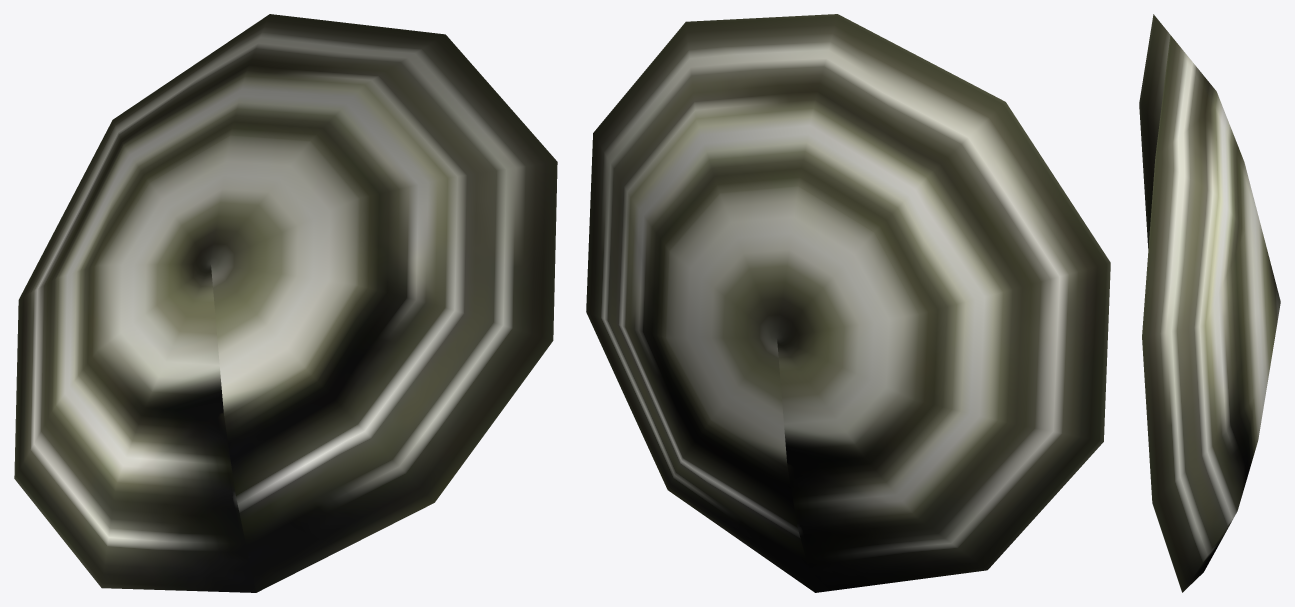
The model's file is pir_m_efx_chr_hitRings.fbx.
The picture shows the model from 3 angles, left to right: view 1: azimuth 30°, elevation 25°; view 2: azimuth 150°, elevation 25°; view 3: azimuth 270°, elevation 25°; orthographic projection. The views are drawn at different scales.
Visible parts, largest first — view 1: pTorus1; view 2: pTorus1; view 3: pTorus1.
Part boxes in pixels (bbox=[...]): pTorus1: bbox=[14, 14, 557, 592]; pTorus1: bbox=[586, 14, 1110, 592]; pTorus1: bbox=[1139, 14, 1280, 592].
Bounding box in the file's own units: 138 × 144 × 34.64.
Materials: 1 (1 with a texture image).
